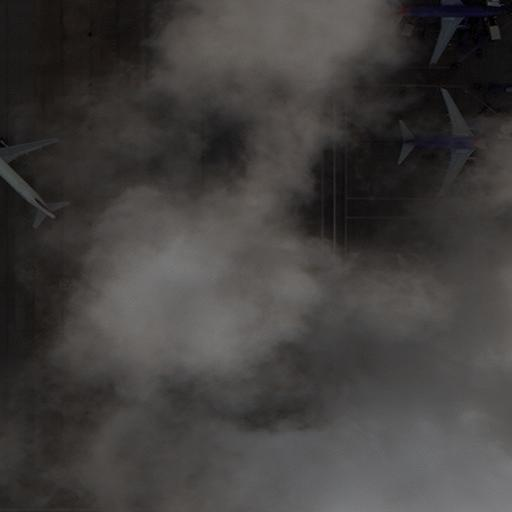Medium Civil Transport: (397, 89, 507, 196), (386, 0, 511, 64), (0, 124, 57, 221)
